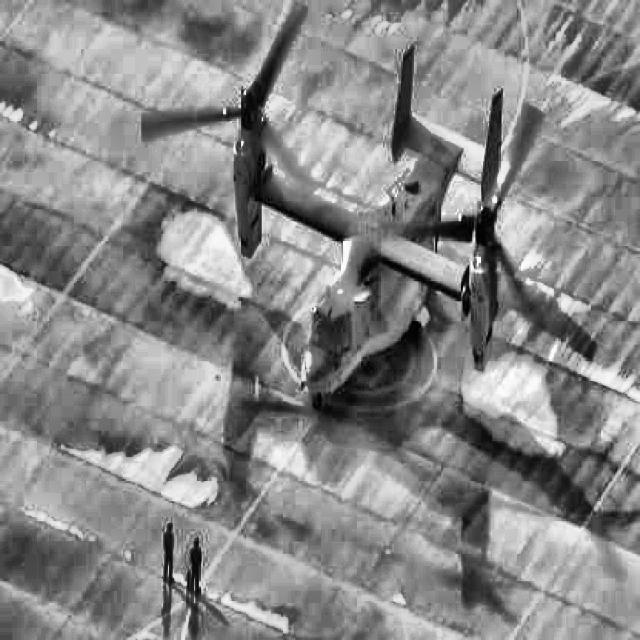V22: (140, 1, 546, 410)
